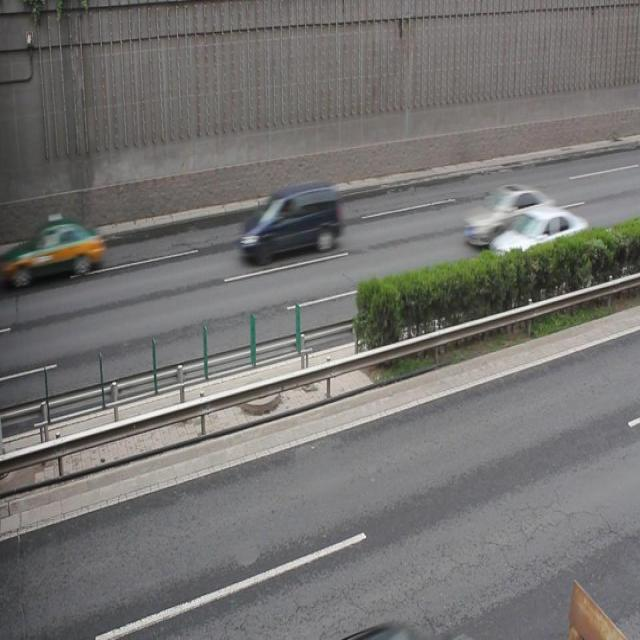car: (0, 216, 104, 290), (489, 203, 589, 277), (464, 184, 554, 246)
truck: (238, 182, 342, 259)
